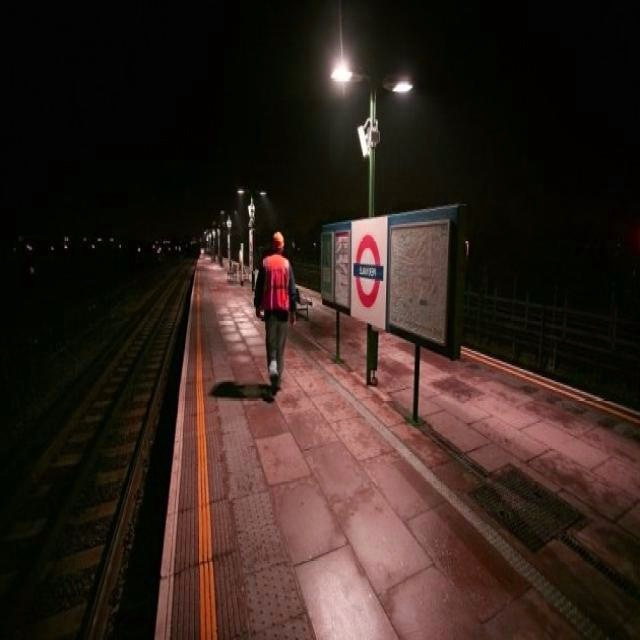Con_Chaleco: (263, 256, 289, 313)
